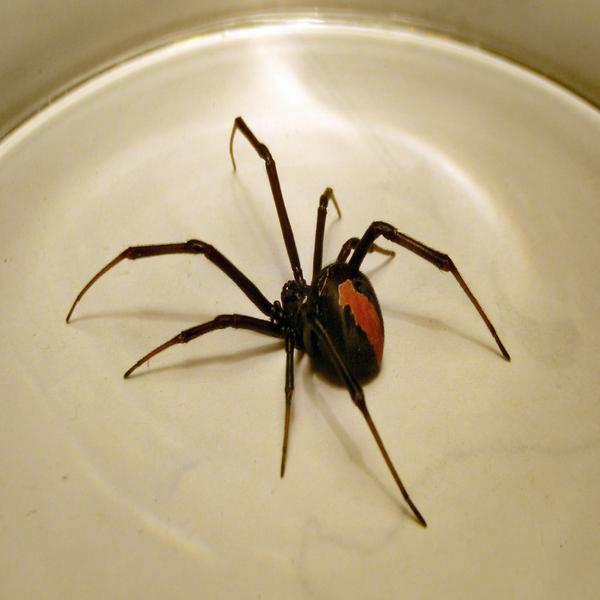Redback Spider: (64, 113, 512, 530)
